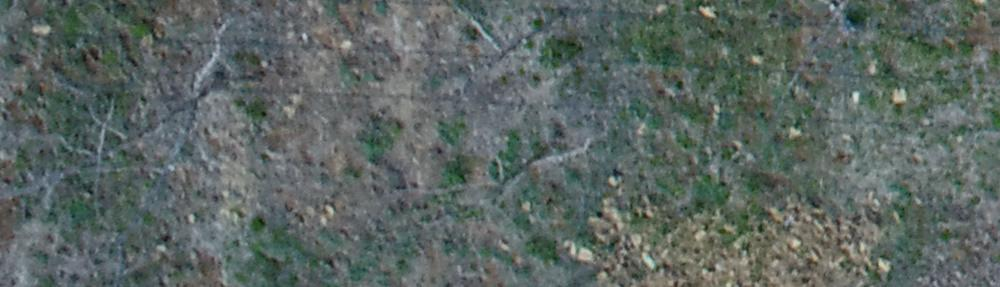apple: (24, 64, 240, 220), (387, 10, 576, 97)
